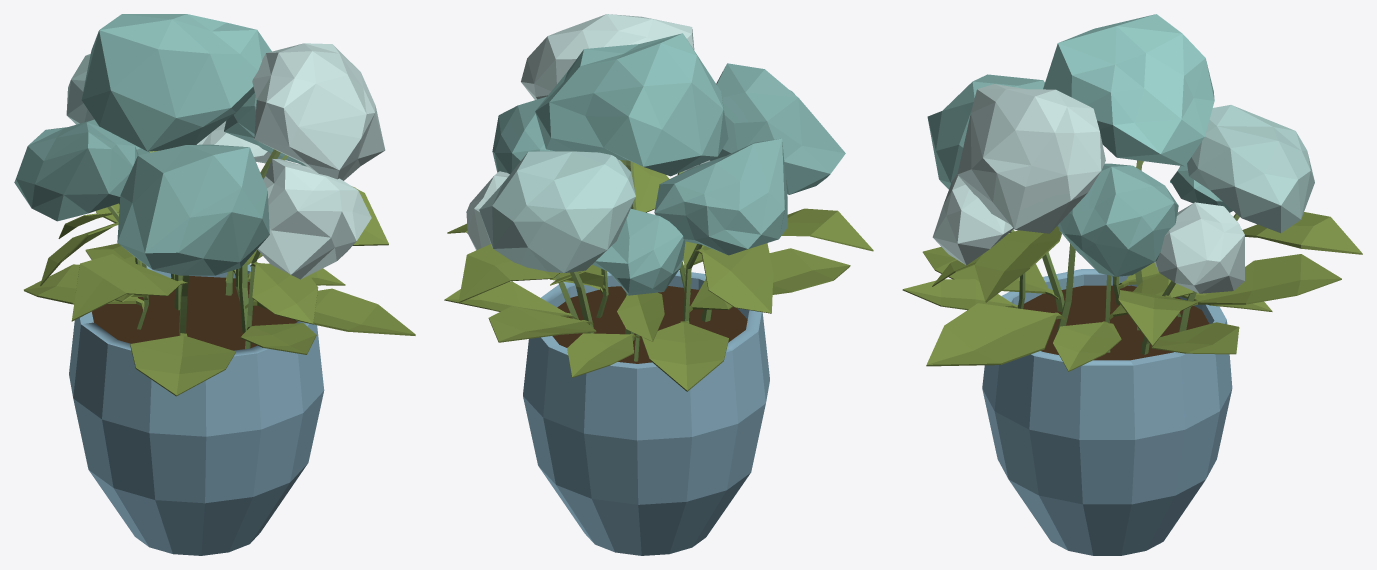
The model's file is Plant_20.fbx.
3 views of the same model, side by side, from view 1: azimuth 30°, elevation 25°; view 2: azimuth 150°, elevation 25°; view 3: azimuth 270°, elevation 25° (orthographic). The views are drawn at different scales.
Visible parts, largest first — view 1: Plant_20; view 2: Plant_20; view 3: Plant_20.
Boxes of the visible parts, x1,y1,x2,y2 form: Plant_20: (14,14,415,555); Plant_20: (444,14,873,555); Plant_20: (902,14,1362,555).
Size of the model in its own units: 32.21 by 43.44 by 36.6.
